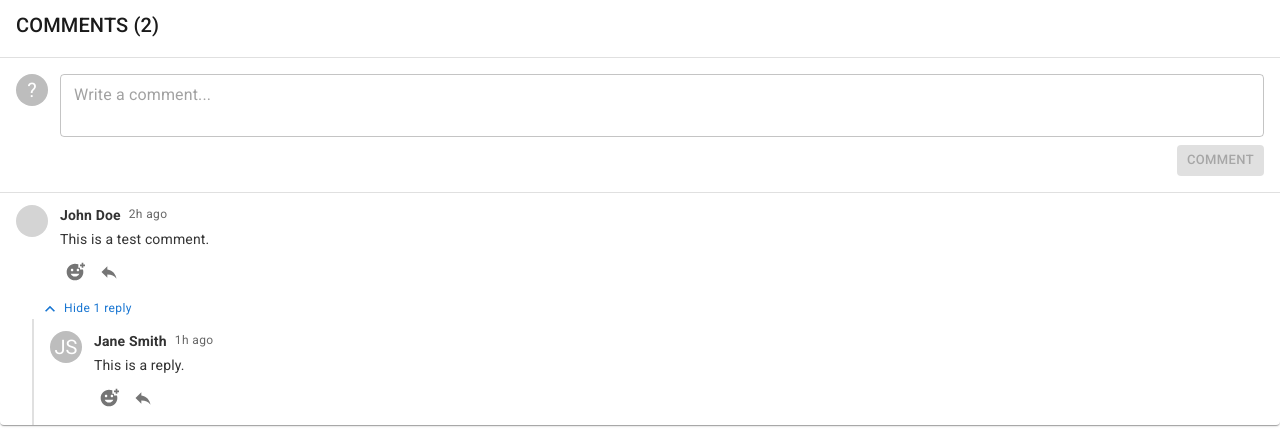
Test: CommentThread › Nested Comments/Replies › should toggle reply visibility when clicked
expect the text "This is a reply." is shown: met, box [94,357,185,373]
Note: Click to hide
Click the text "Hide 1 reply" at (98, 309), box [64,299,132,319]
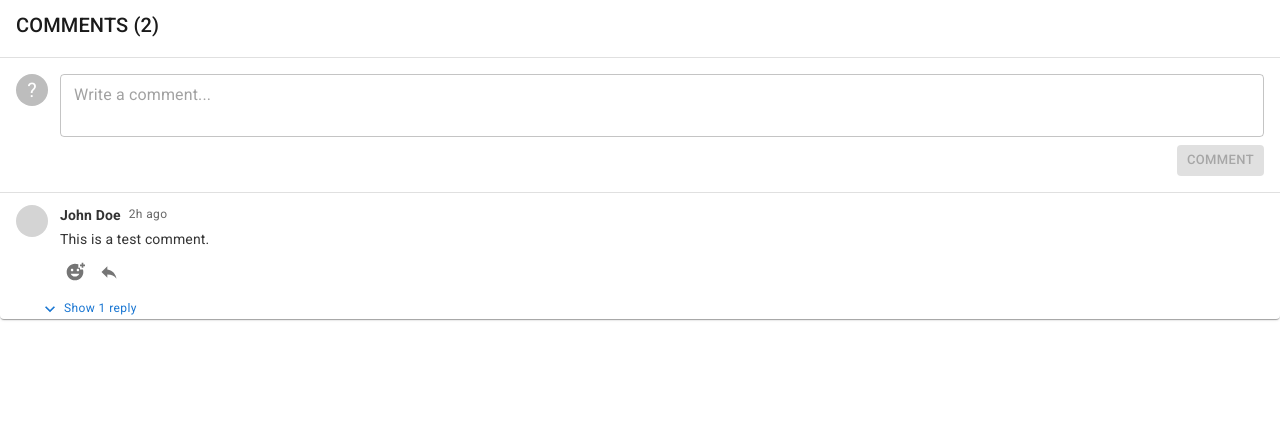
expect the text "Show 1 reply" is shown: met, box [64,299,137,319]
